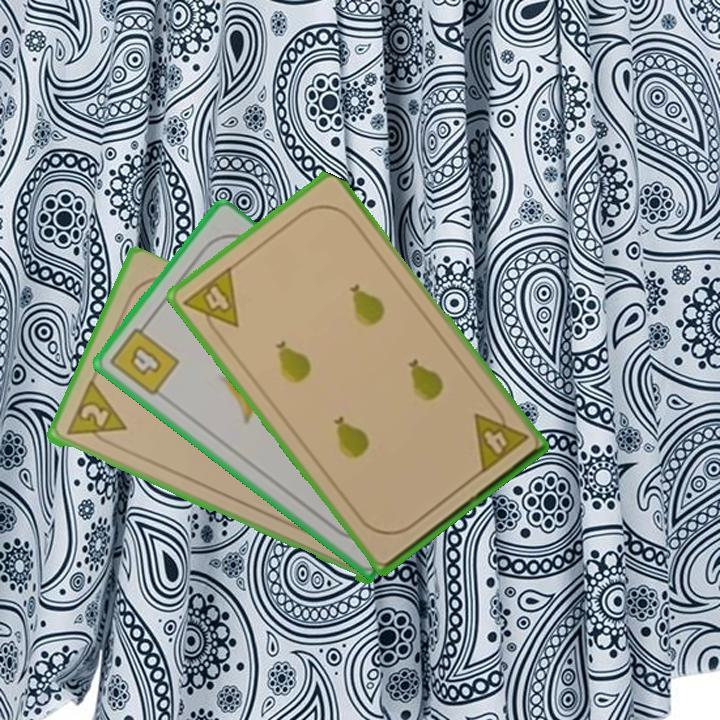2p: (61, 379, 129, 450)
4b: (106, 317, 182, 399)
4p: (180, 262, 242, 343), (469, 399, 531, 477)
